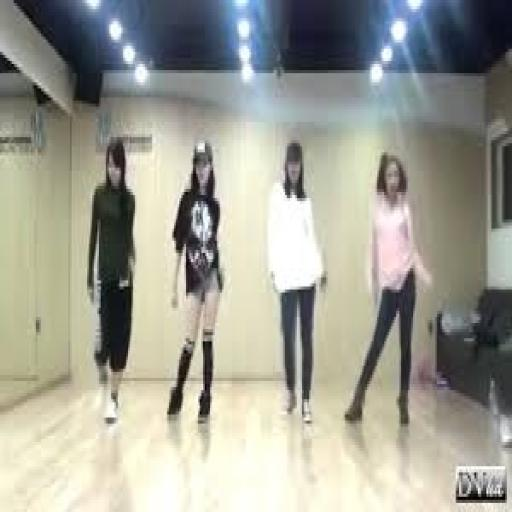dancing: (342, 146, 436, 430), (264, 137, 330, 427), (164, 137, 227, 427), (84, 134, 140, 427)
